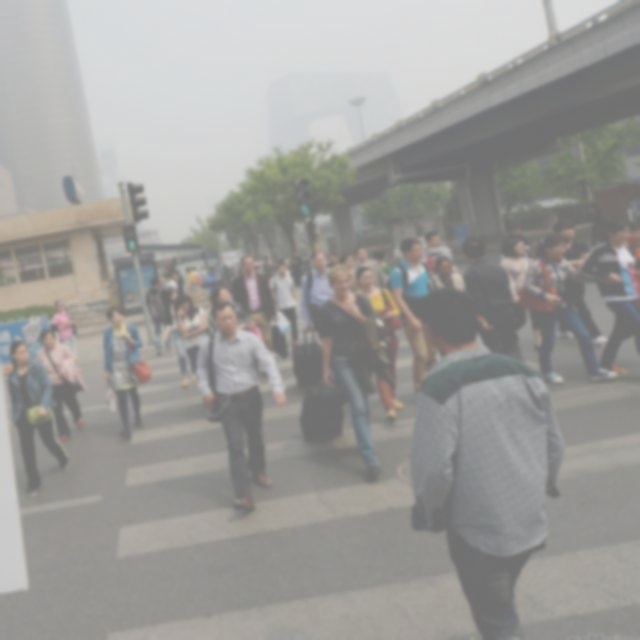pessoa: (404, 282, 570, 640), (193, 296, 290, 514), (314, 260, 384, 482), (522, 232, 619, 386), (4, 337, 73, 498), (576, 218, 639, 375), (386, 236, 440, 404), (460, 234, 526, 364), (549, 217, 610, 349), (352, 264, 403, 421), (99, 302, 153, 440), (31, 326, 89, 444), (597, 218, 639, 378), (230, 254, 278, 353), (162, 284, 198, 388), (172, 292, 210, 383), (300, 247, 336, 343), (266, 260, 302, 348), (497, 236, 528, 332), (142, 274, 174, 358), (51, 299, 83, 375), (206, 284, 252, 334), (418, 230, 454, 277), (426, 254, 466, 294), (352, 244, 390, 286), (396, 208, 444, 236), (585, 201, 609, 252), (500, 223, 533, 260), (11, 322, 42, 358), (372, 248, 394, 296), (338, 252, 360, 294), (220, 248, 242, 284), (424, 248, 446, 278), (288, 248, 304, 288), (252, 258, 280, 277), (204, 266, 222, 294), (170, 270, 187, 296), (123, 287, 147, 304), (185, 266, 202, 288), (163, 272, 180, 292), (326, 249, 342, 268), (262, 254, 272, 282), (188, 265, 208, 279), (176, 268, 184, 282)
